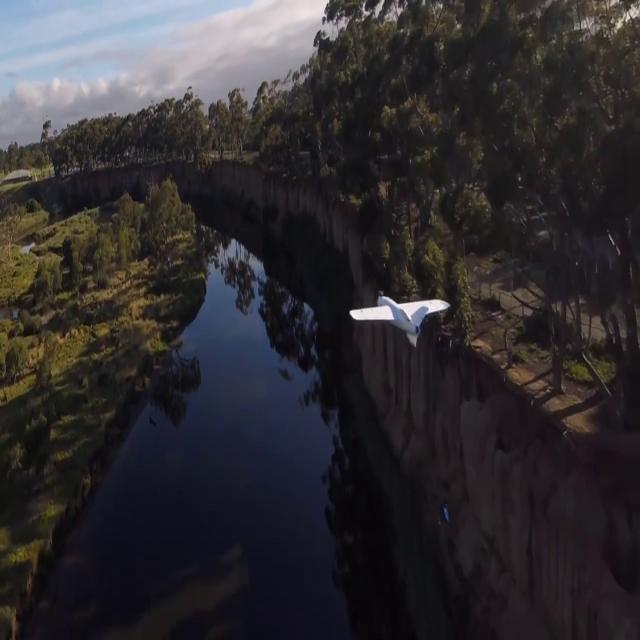iha: (379, 288, 421, 348)
